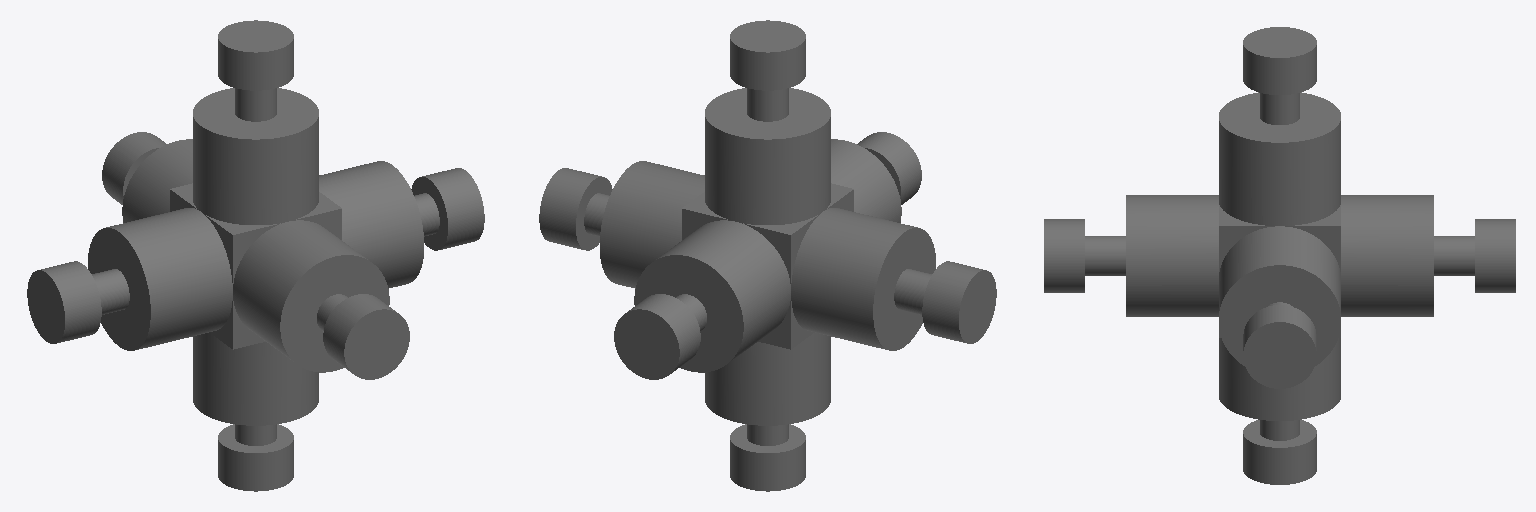
robot.urdf — rubiks:
<robot name="rubiks">
  <link name="rubiks">
    <contact>
      <rolling_friction value="0.001"/>
      <spinning_friction value="0.001"/>
    </contact>
    <visual>
      <origin rpy="0 0 0" xyz="0 0 0"/>
      <geometry>
		<mesh filename="noyau.stl" scale="0.001 0.001 0.001"/>
      </geometry>
      <material name="grey">
        <color rgba="0.5 0.5 0.5 1.0"/>
      </material>
    </visual>
    <collision>
      <origin rpy="0 0 0" xyz="0 0 0"/>
      <geometry>
	    <mesh filename="noyau.stl" scale="0.001 0.001 0.001"/>
      </geometry>
    </collision>
    </link>
</robot>

--- Render facts (derived) ---
Views: 3 orthographic renders of the robot side by side, from view 1: azimuth 30°, elevation 25°; view 2: azimuth 150°, elevation 25°; view 3: azimuth 270°, elevation 25°.
Model rubiks with 1 links and 0 joints (none), rooted at rubiks, posed all joints at 0.
Links seen in each view (by area): view 1: rubiks; view 2: rubiks; view 3: rubiks.
Boxes of the visible links, x1,y1,x2,y2 form: rubiks: (27,20,484,491); rubiks: (539,20,996,491); rubiks: (1044,27,1515,484).
Bounding box of the posed robot: 0.0292 × 0.0292 × 0.0292 m (x, y, z).
1 mesh visuals loaded from 1 distinct referenced files (1 binary STL).